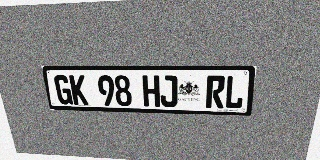8: (114, 75, 132, 106)
9: (97, 75, 116, 106)
G: (53, 75, 73, 105)
H: (142, 75, 160, 107)
J: (160, 75, 177, 107)
K: (69, 75, 88, 105)
L: (224, 76, 245, 109)
R: (206, 75, 226, 108)
